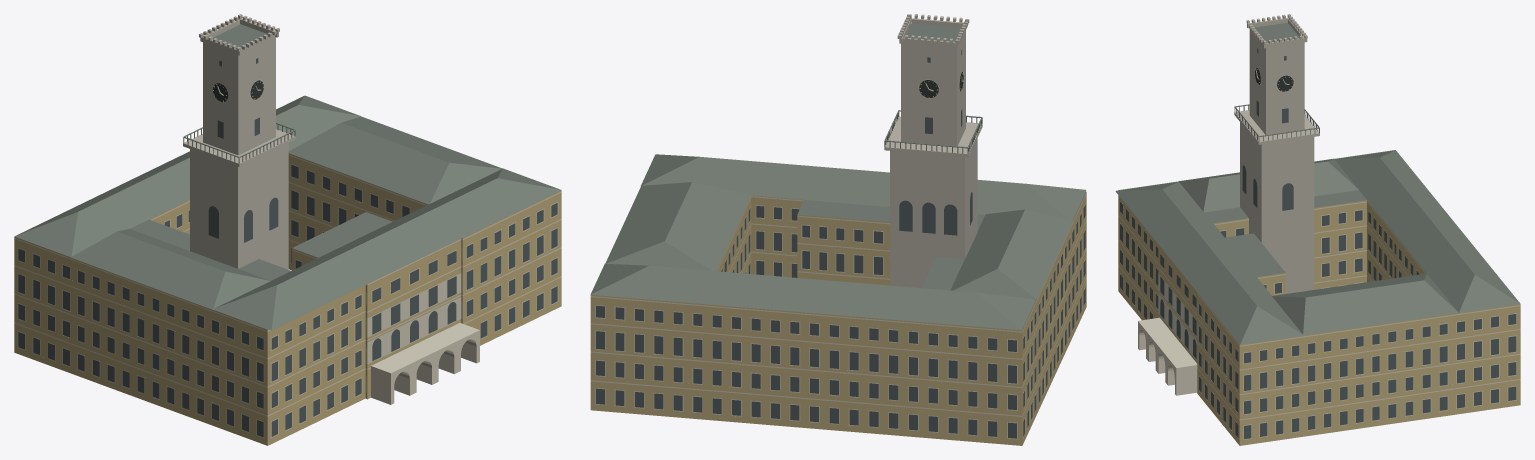
File: lviv-town-hall-near.glb
3 renders of one model, left to right at view 1: azimuth 30°, elevation 25°; view 2: azimuth 150°, elevation 25°; view 3: azimuth 270°, elevation 25°, orthographic. The views are drawn at different scales.
Parts seen in each view (by area): view 1: lviv-town-hall-0-ochre, lviv-town-hall-0-roof, lviv-town-hall-0-trim, lviv-town-hall-0-glass, lviv-town-hall-0-tower; view 2: lviv-town-hall-0-ochre, lviv-town-hall-0-roof, lviv-town-hall-0-glass, lviv-town-hall-0-tower, lviv-town-hall-0-trim; view 3: lviv-town-hall-0-roof, lviv-town-hall-0-ochre, lviv-town-hall-0-tower, lviv-town-hall-0-glass, lviv-town-hall-0-trim.
Boxes of the visible parts, left/top/right/bottom form: lviv-town-hall-0-ochre: left=14, top=153, right=561, bottom=445; lviv-town-hall-0-roof: left=14, top=24, right=560, bottom=330; lviv-town-hall-0-trim: left=14, top=154, right=561, bottom=438; lviv-town-hall-0-glass: left=18, top=58, right=557, bottom=437; lviv-town-hall-0-tower: left=183, top=14, right=295, bottom=269; lviv-town-hall-0-ochre: left=590, top=192, right=1086, bottom=445; lviv-town-hall-0-roof: left=590, top=23, right=1086, bottom=330; lviv-town-hall-0-glass: left=596, top=50, right=1085, bottom=438; lviv-town-hall-0-tower: left=884, top=14, right=982, bottom=288; lviv-town-hall-0-trim: left=590, top=193, right=1086, bottom=439; lviv-town-hall-0-roof: left=1115, top=22, right=1520, bottom=344; lviv-town-hall-0-ochre: left=1118, top=190, right=1520, bottom=445; lviv-town-hall-0-tower: left=1234, top=14, right=1319, bottom=293; lviv-town-hall-0-glass: left=1120, top=48, right=1516, bottom=439; lviv-town-hall-0-trim: left=1118, top=201, right=1520, bottom=439.
Size of the model in its own units: 93.7 by 65 by 82.42.
